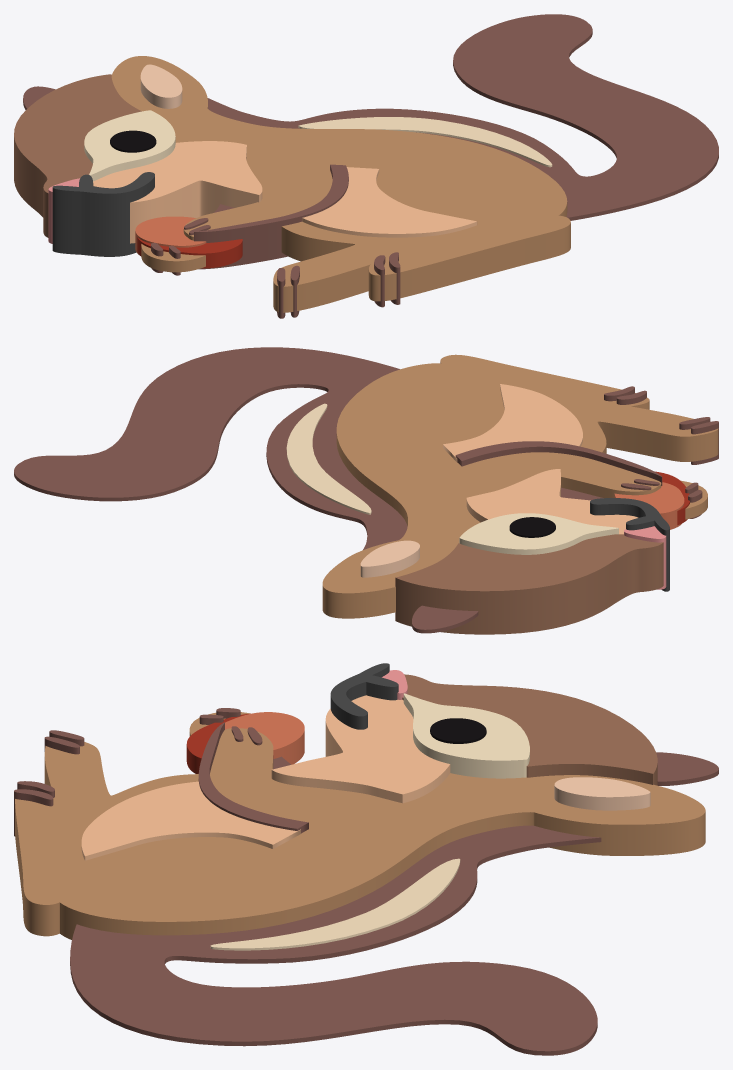
Rendered from emoji_u1f43f.glb.
3 views of the same model, one above another, from view 1: azimuth 30°, elevation 25°; view 2: azimuth 150°, elevation 25°; view 3: azimuth 270°, elevation 25° (orthographic). The views are drawn at different scales.
Parts seen in each view (by area): view 1: emoji_u1f43f; view 2: emoji_u1f43f; view 3: emoji_u1f43f.
Part boxes in pixels (left/top/right/bottom): emoji_u1f43f: left=14, top=14, right=718, bottom=318; emoji_u1f43f: left=14, top=347, right=718, bottom=634; emoji_u1f43f: left=14, top=663, right=718, bottom=1055.
Size of the model in its own units: 0.0338 by 0.0034 by 0.0286.
